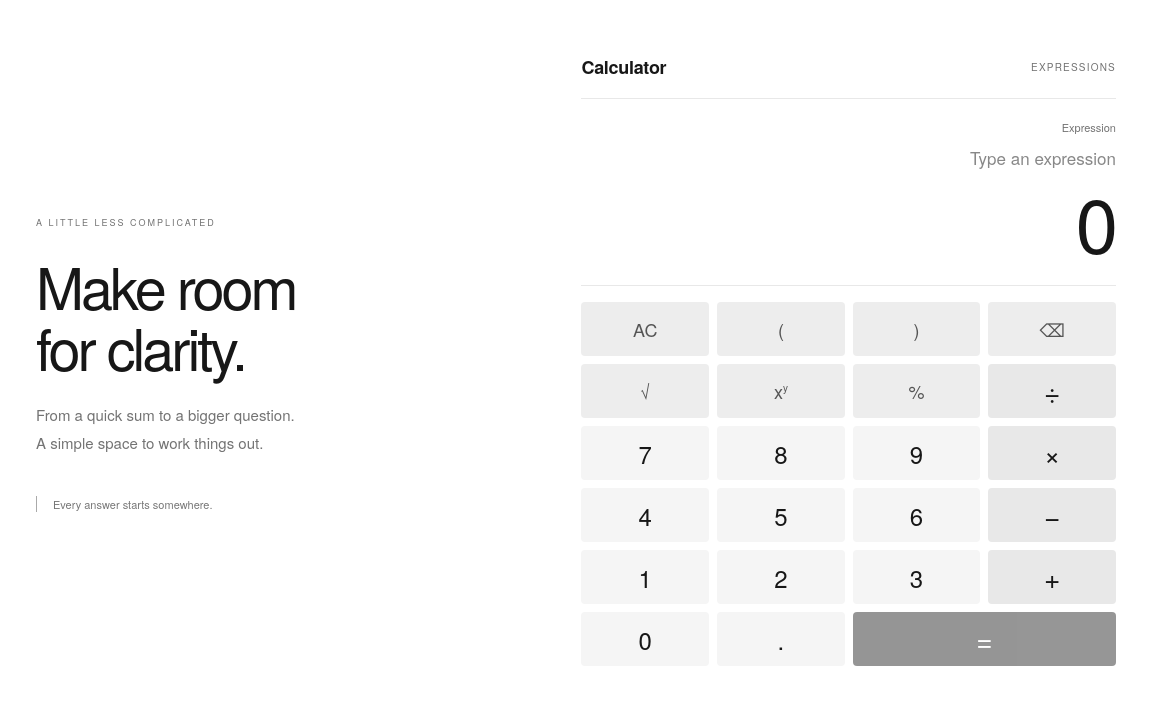
Test: Calculator view › announces calculation errors and clears them when editing
Type "1/0" into the field labelled "Expression" at (849, 157), box [581,135,1116,180]
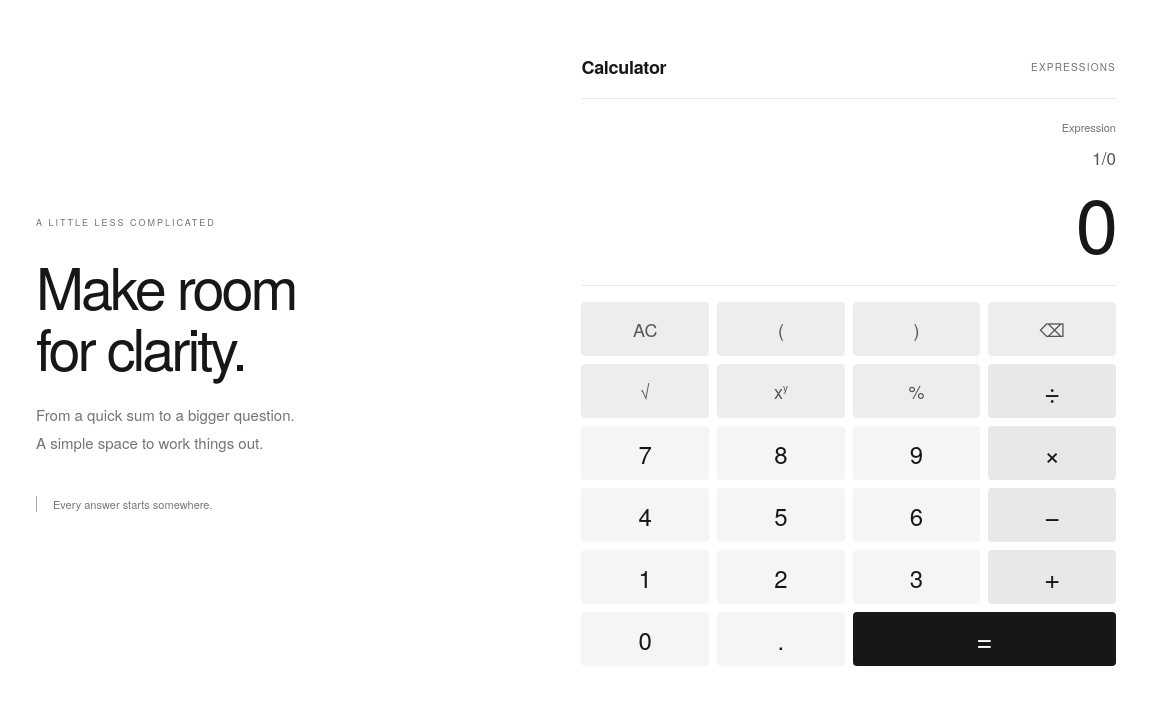
Click the button named "Calculate" at (984, 639), box [853,612,1116,666]
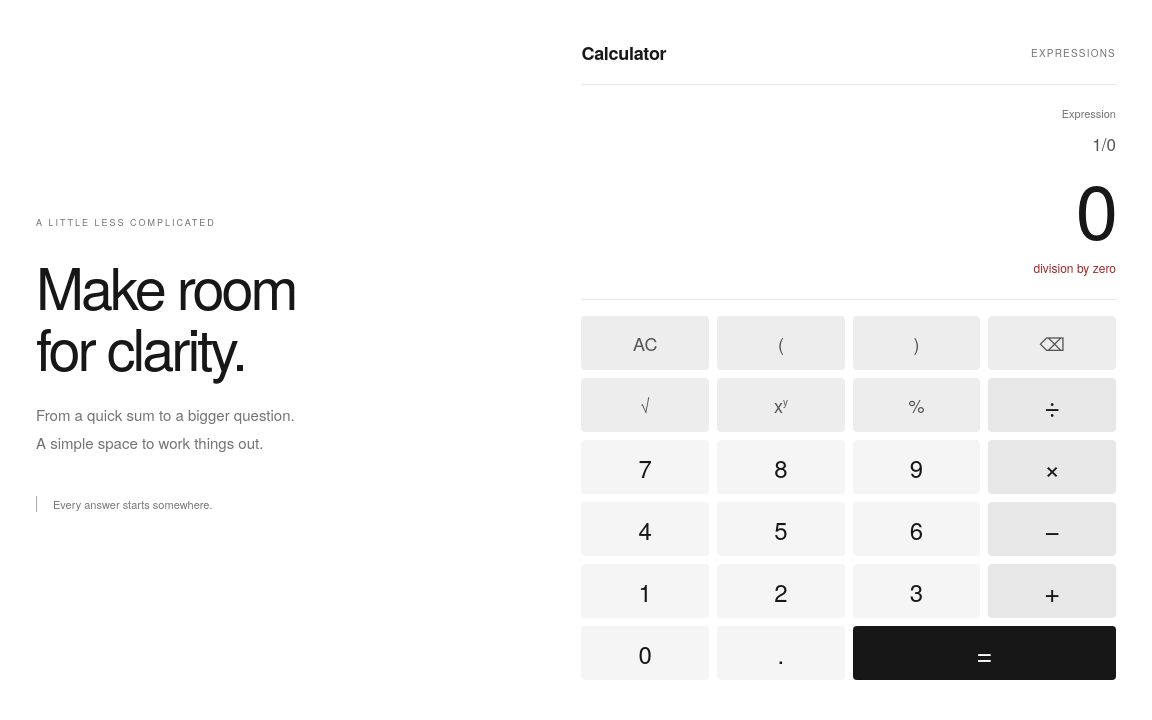
Result: the message reads "division by zero" at [1034,259,1116,276]
Replace the text in the field labelled "Expression" with "1/2" at (849, 143), box [581,121,1116,166]
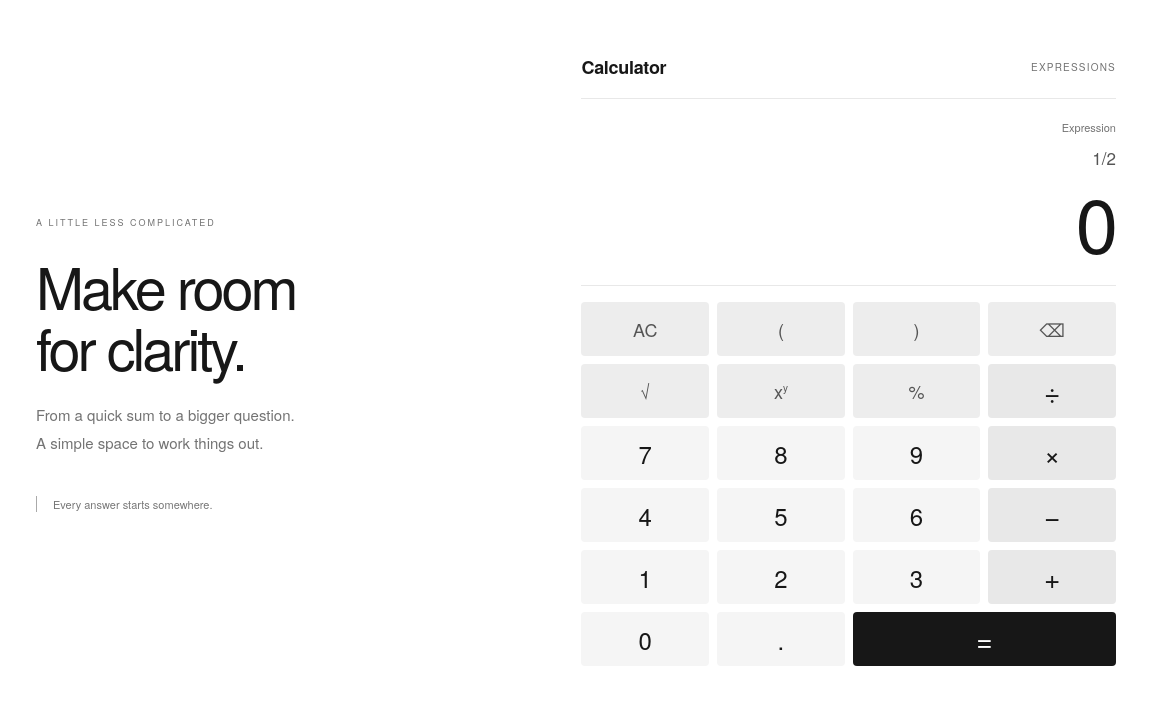
Result: the message "division by zero" is gone
